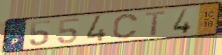4: (85, 13, 108, 43), (171, 7, 194, 35)
5: (28, 19, 53, 47), (57, 17, 81, 45)
C: (111, 13, 140, 40)
T: (144, 10, 167, 38)
